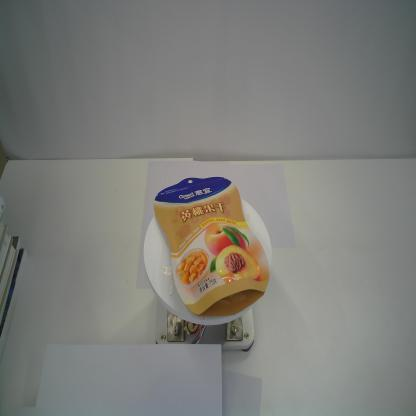Dried Fruit: (154, 176, 270, 316)
